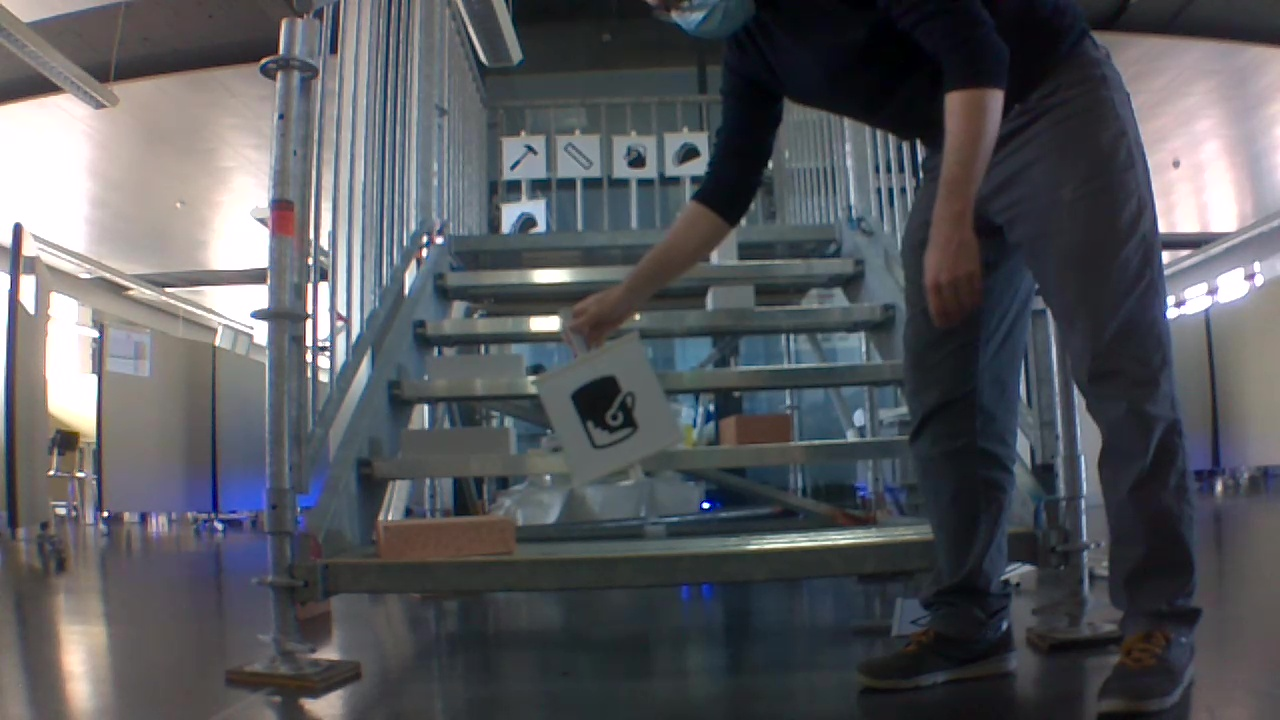brick: (379, 516, 513, 561), (403, 426, 516, 457), (426, 352, 525, 382), (721, 414, 791, 444), (706, 286, 751, 309)
bucket: (566, 370, 640, 457), (619, 139, 650, 172)
edge: (322, 530, 1030, 591)
hammer: (505, 140, 541, 176)
ruler: (559, 137, 596, 173)
taco: (668, 137, 704, 173), (504, 209, 540, 234)
